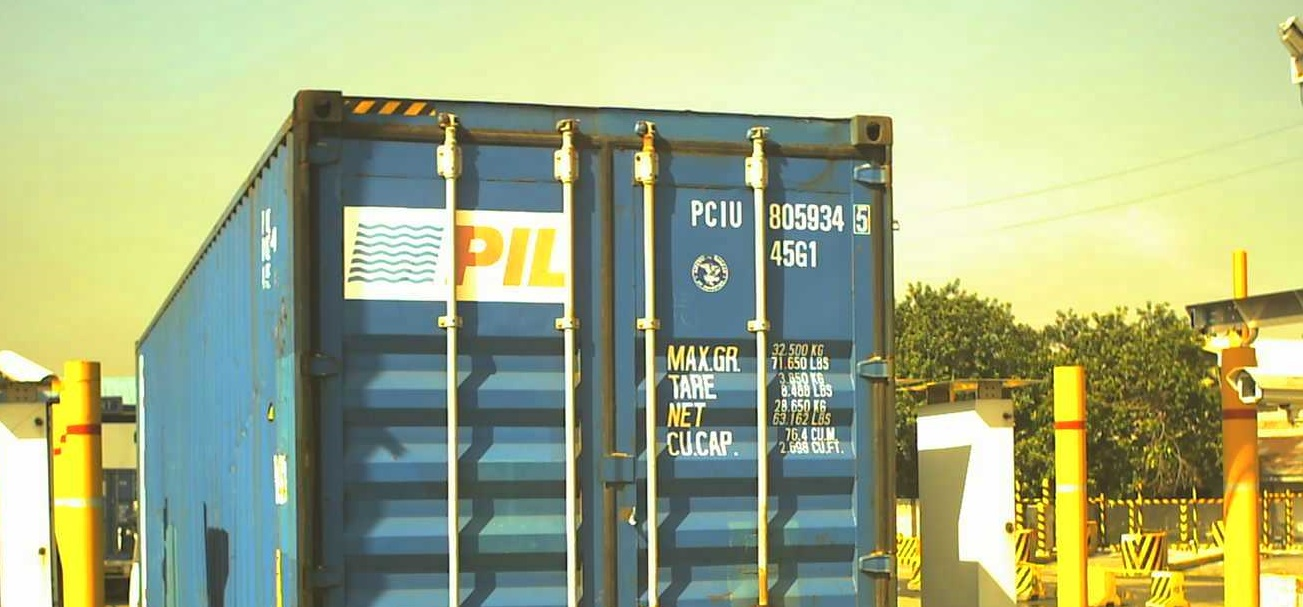container_door: (288, 85, 903, 605)
